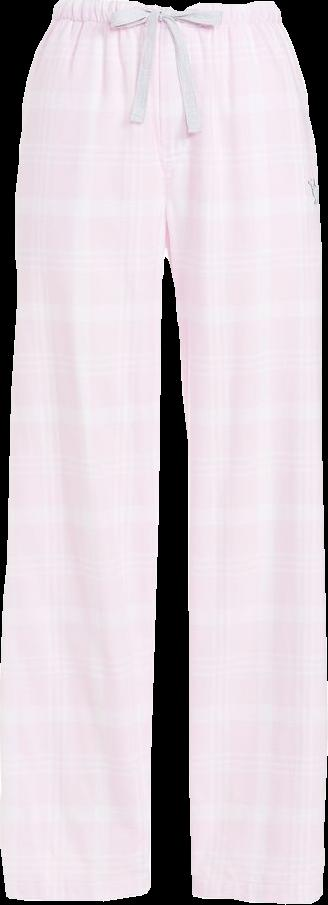Hemline: (4, 882, 151, 904), (191, 885, 327, 904)
Pantleg: (157, 2, 326, 902), (0, 0, 166, 900)
Waistline: (48, 15, 287, 34), (52, 0, 273, 16)
